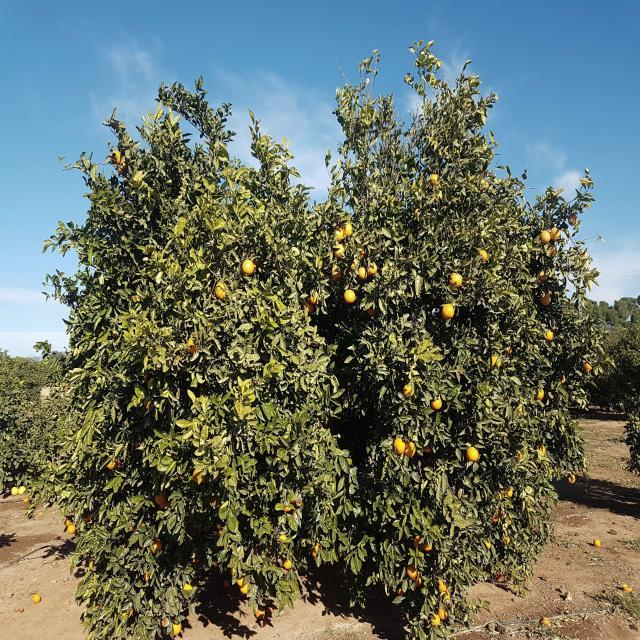Jeruk Sudah Matang: (215, 281, 229, 299), (404, 440, 416, 458), (149, 538, 162, 554), (193, 468, 206, 484), (182, 582, 195, 598), (466, 446, 479, 462), (413, 534, 424, 552), (154, 490, 168, 504), (187, 338, 200, 353), (106, 454, 118, 470), (242, 260, 254, 276), (394, 438, 406, 454), (442, 303, 454, 319), (450, 272, 462, 288), (423, 535, 434, 552), (120, 604, 133, 618), (312, 542, 322, 560), (170, 621, 182, 635), (276, 532, 288, 546), (406, 564, 418, 578), (412, 574, 424, 588), (402, 384, 414, 398), (438, 605, 449, 620), (344, 289, 355, 303), (550, 227, 561, 241), (110, 150, 121, 163), (431, 396, 442, 409), (540, 230, 551, 243), (283, 498, 293, 512), (334, 227, 344, 241), (332, 266, 342, 280), (438, 578, 448, 592), (538, 268, 548, 282), (534, 386, 544, 400), (536, 443, 546, 457), (117, 162, 127, 175), (309, 291, 319, 304), (342, 223, 352, 236), (367, 262, 377, 275), (334, 245, 344, 258), (568, 213, 578, 226), (541, 293, 551, 306), (584, 358, 592, 374), (90, 558, 100, 570), (160, 501, 172, 511), (211, 496, 221, 508), (304, 301, 314, 313), (358, 268, 368, 280), (430, 614, 440, 626), (430, 174, 440, 186), (482, 538, 492, 550), (490, 356, 500, 368), (283, 557, 292, 570), (504, 485, 513, 498), (432, 190, 442, 201), (237, 575, 246, 587), (368, 306, 378, 316), (440, 590, 450, 600), (578, 249, 588, 259), (478, 250, 487, 261), (358, 248, 366, 260), (495, 489, 503, 501), (502, 534, 511, 544), (84, 511, 92, 522), (506, 514, 514, 525), (480, 178, 488, 189), (546, 330, 554, 341), (67, 525, 76, 534), (567, 473, 576, 482), (240, 584, 248, 594), (256, 608, 264, 618), (396, 586, 404, 596), (414, 208, 422, 218), (496, 572, 504, 582), (548, 247, 556, 257), (518, 406, 526, 416), (146, 398, 153, 409), (230, 566, 237, 577), (491, 511, 498, 522), (33, 594, 41, 603), (95, 603, 104, 611), (350, 259, 358, 268), (144, 571, 150, 582), (424, 444, 432, 452), (594, 538, 600, 548), (64, 518, 71, 526), (132, 295, 140, 302), (179, 240, 186, 248), (223, 580, 230, 588), (499, 510, 506, 518), (505, 346, 512, 354), (518, 452, 524, 461), (192, 557, 199, 564), (144, 375, 150, 383), (135, 441, 141, 449), (128, 522, 134, 530), (456, 368, 464, 374), (121, 544, 127, 551), (173, 453, 178, 461), (219, 528, 224, 536), (204, 526, 209, 534), (117, 462, 123, 468), (140, 522, 146, 528), (310, 341, 316, 347), (179, 354, 184, 361), (24, 497, 29, 503), (216, 523, 221, 529), (466, 280, 470, 287), (176, 474, 180, 480), (164, 450, 166, 452)
